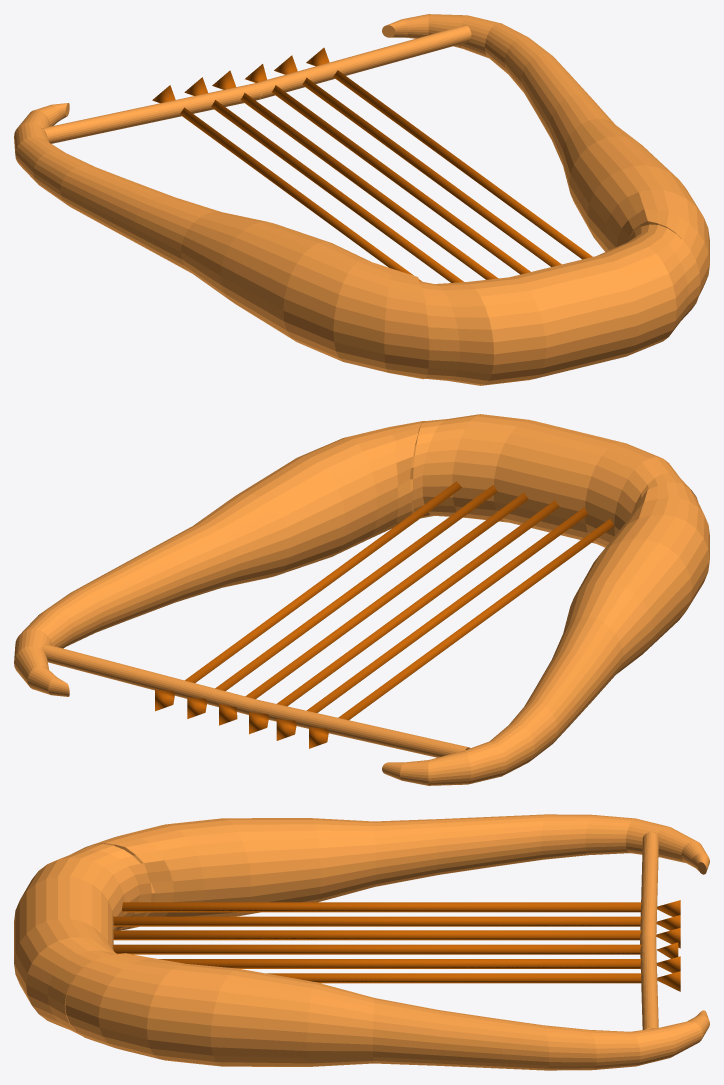
The model's file is arfa.fbx.
3 renders of one model, top to bottom at view 1: azimuth 30°, elevation 25°; view 2: azimuth 150°, elevation 25°; view 3: azimuth 270°, elevation 25°, orthographic. The views are drawn at different scales.
Parts seen in each view (by area): view 1: Cylinder, Cylinder.002, Cylinder.001, Cylinder.003; view 2: Cylinder, Cylinder.001, Cylinder.002, Cylinder.003; view 3: Cylinder, Cylinder.001, Cylinder.003, Cylinder.002.
Boxes of the visible parts, x1,y1,x2,y2 form: Cylinder: [14, 14, 709, 385]; Cylinder.002: [302, 70, 592, 266]; Cylinder.001: [240, 85, 530, 279]; Cylinder.003: [180, 100, 464, 282]; Cylinder: [14, 414, 709, 785]; Cylinder.001: [245, 492, 559, 706]; Cylinder.002: [185, 481, 497, 690]; Cylinder.003: [307, 507, 613, 720]; Cylinder: [14, 814, 709, 1070]; Cylinder.001: [113, 930, 641, 954]; Cylinder.003: [113, 902, 641, 926]; Cylinder.002: [159, 959, 641, 983].
Size of the model in its own units: 1098 by 199 by 1395.
